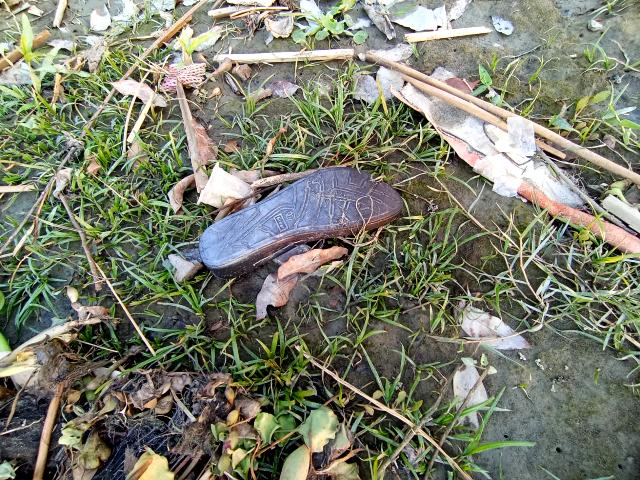sandal: (165, 140, 420, 298)
